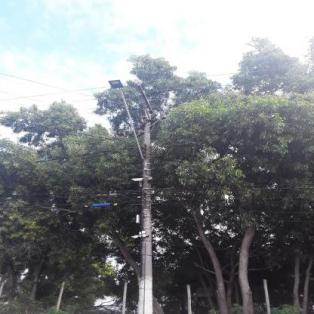Poste: (134, 110, 156, 314)
